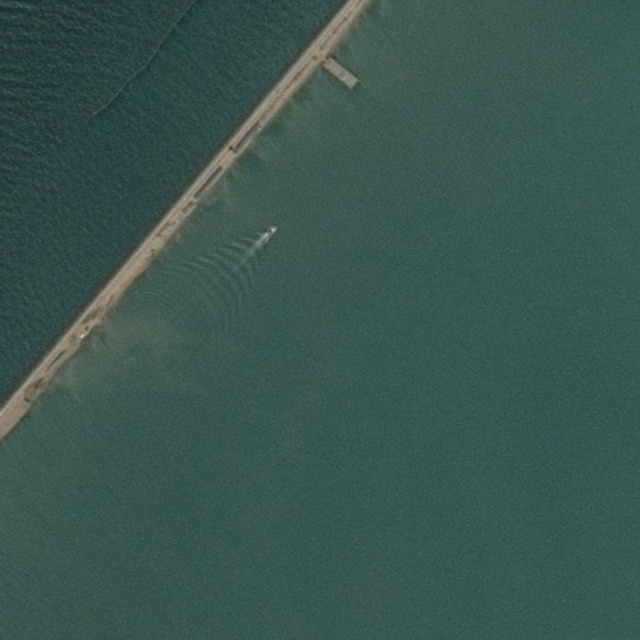wake: (159, 188, 315, 345)
